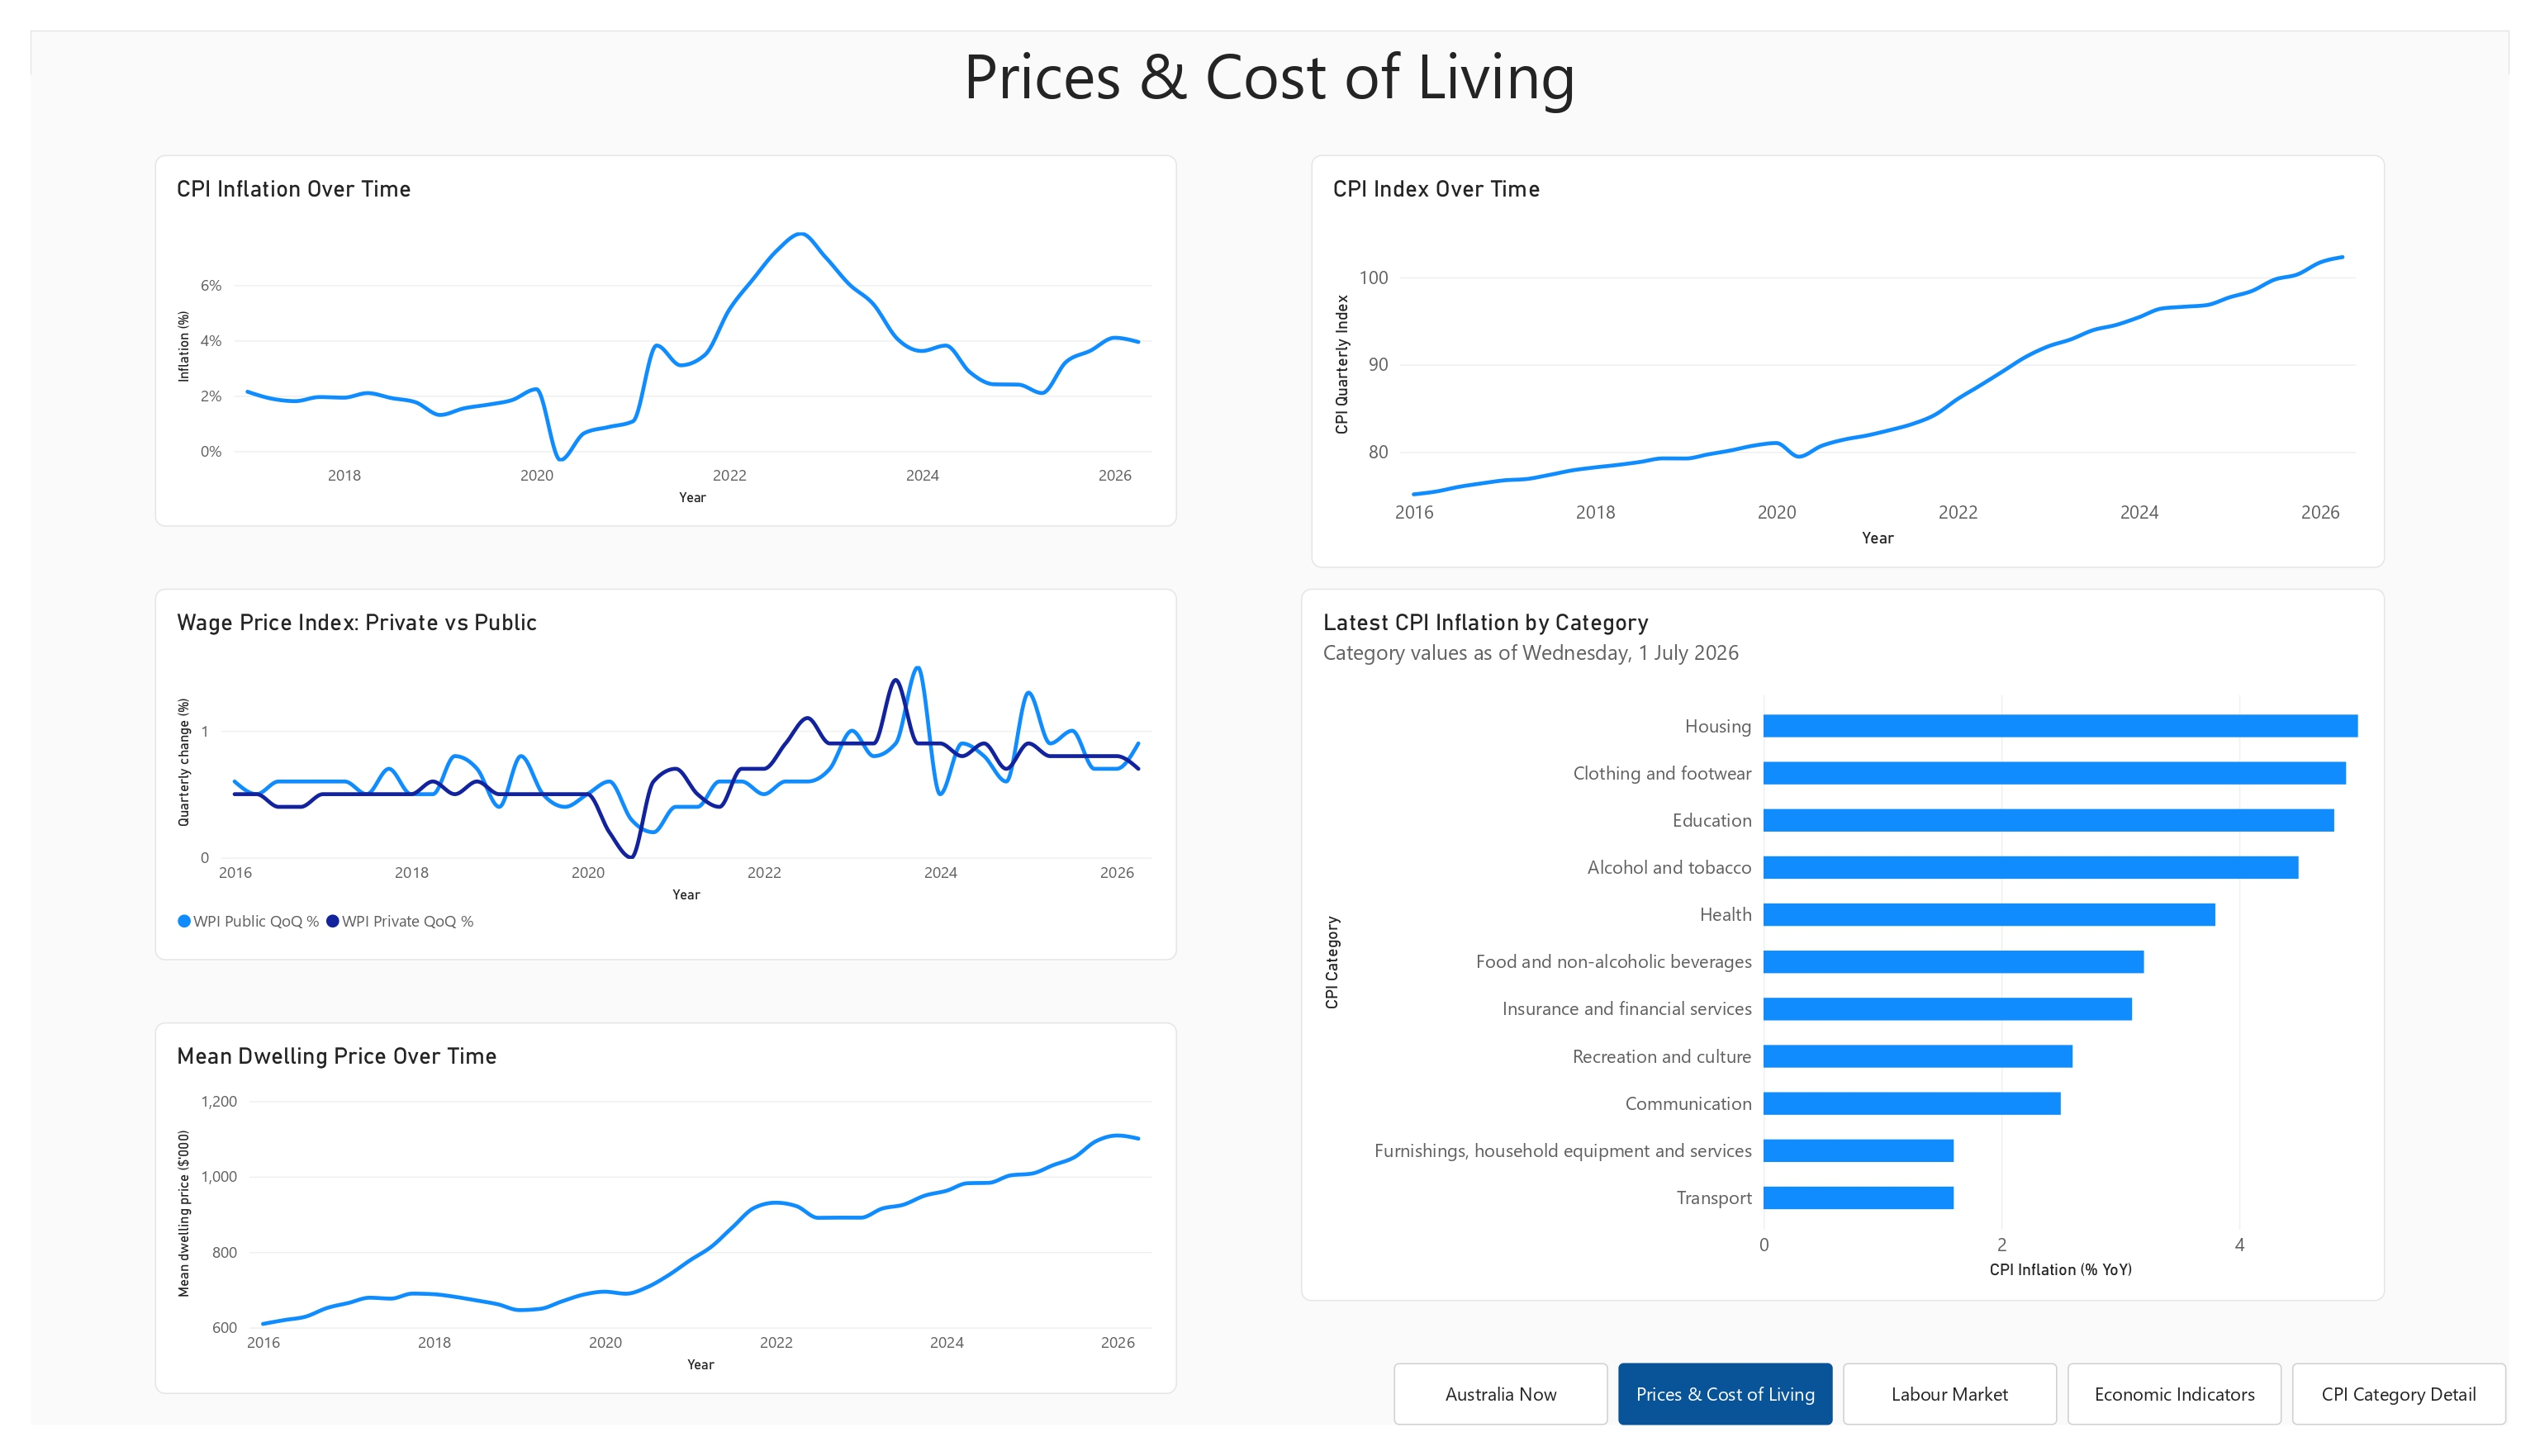

Layout of this report page (visuals, bound fields, positions):
{"tool":"powerbi","page":{"name":"Prices & Cost of Living","canvas":[1920,1080],"ordinal":1},"visuals":[{"type":"textbox","box":[0,0,1920,120],"z":0},{"type":"lineChart","title":"CPI Inflation Over Time","fields":{"Category":["DimDate.Date"],"Y":["CPI_from2016.CPI YoY %"]},"box":[96,96,792,288],"z":1000},{"type":"lineChart","title":"CPI Index Over Time","fields":{"Category":["DimDate.Date"],"Y":["CPI_from2016.CPI Quarterly Index"]},"box":[992,96,832,320],"z":2000},{"type":"lineChart","title":"Wage Price Index: Private vs Public","fields":{"Category":["DimDate.Date"],"Y":["WPI.WPI Public QoQ %","WPI.WPI Private QoQ %"]},"box":[96,432,792,288],"z":3000},{"type":"lineChart","title":"Mean Dwelling Price Over Time","fields":{"Category":["DimDate.Date"],"Y":["Dwellings.Mean Dwelling Price"]},"box":[96,768,792,288],"z":4000},{"type":"clusteredBarChart","title":"Latest CPI Inflation by Category","fields":{"Category":["CPI.Parent Category"],"Y":["CPI.Latest CPI Category YoY %"]},"box":[984,432,840,552],"z":5000},{"type":"pageNavigator","box":[1056,1032,864,48],"z":6000}]}

Visuals, with their boxes on the page's 1920x1080 design canvas (x1, y1, x2, y2). These are canvas units, not pixel positions in the 2540x1456 screenshot, which may show the page scaled, cropped or inside an application window:
textbox: Rect(0, 0, 1920, 120)
"CPI Inflation Over Time" lineChart: Rect(96, 96, 888, 384)
"CPI Index Over Time" lineChart: Rect(992, 96, 1824, 416)
"Wage Price Index: Private vs Public" lineChart: Rect(96, 432, 888, 720)
"Mean Dwelling Price Over Time" lineChart: Rect(96, 768, 888, 1056)
"Latest CPI Inflation by Category" clusteredBarChart: Rect(984, 432, 1824, 984)
pageNavigator: Rect(1056, 1032, 1920, 1080)
